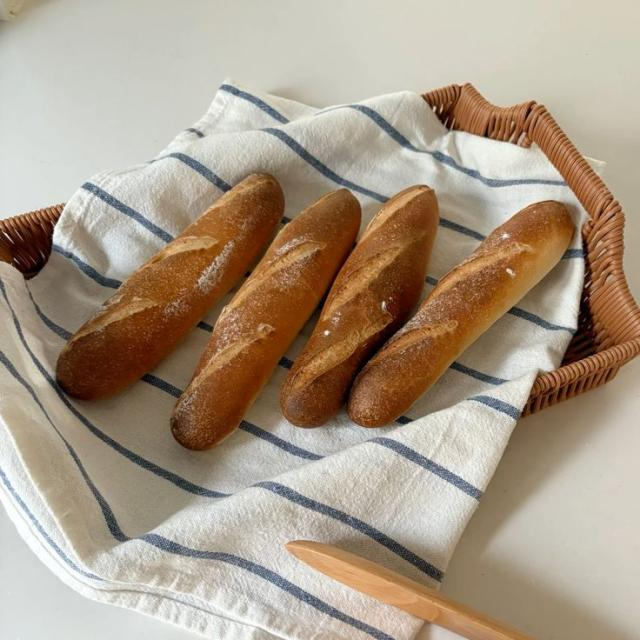bread: (56, 174, 284, 399), (348, 201, 573, 426), (172, 189, 360, 449), (280, 186, 438, 426)
